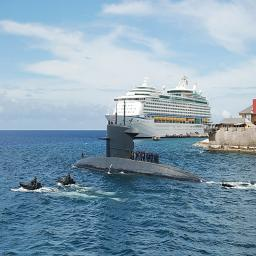submarine: (74, 103, 212, 183)
